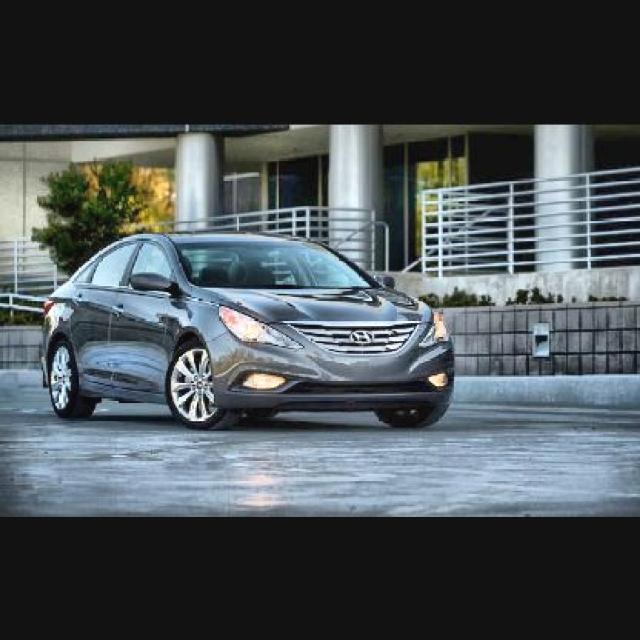black: (51, 240, 447, 421)
